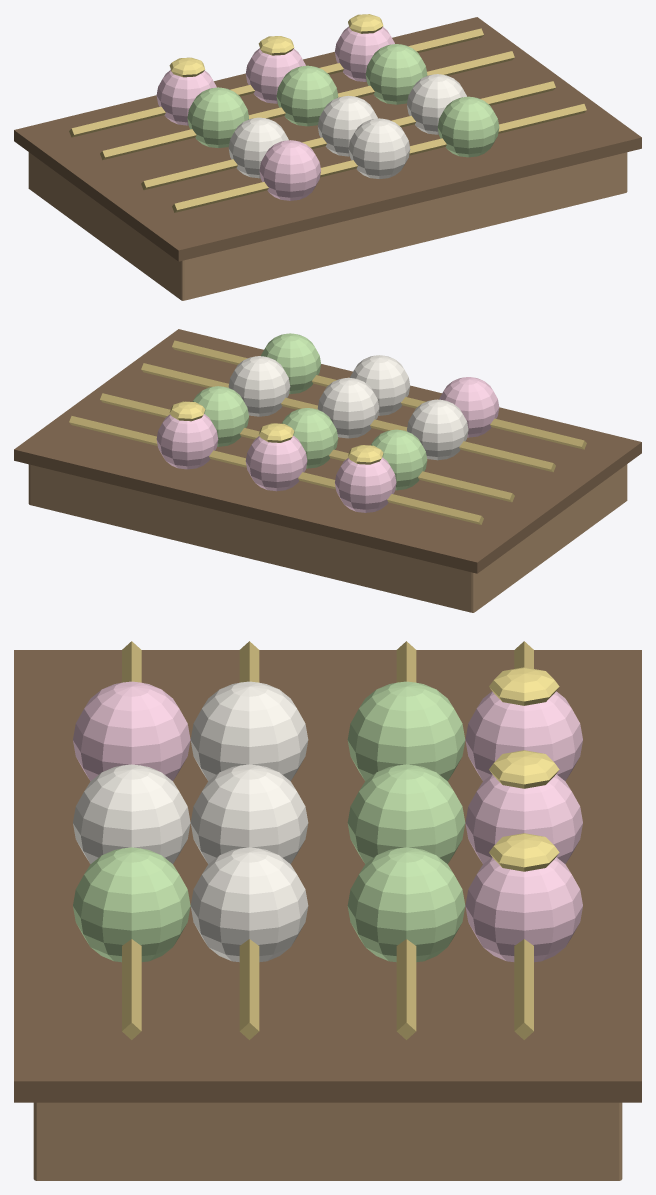
The model's file is dango_skewers.glb.
3 views of the same model, one above another, from view 1: azimuth 30°, elevation 25°; view 2: azimuth 150°, elevation 25°; view 3: azimuth 270°, elevation 25° (orthographic). The views are drawn at different scales.
Visible parts, largest first — view 1: dango_skewers; view 2: dango_skewers; view 3: dango_skewers.
Boxes of the visible parts, x1=… form: dango_skewers: x1=14, y1=14, x2=641, y2=300; dango_skewers: x1=14, y1=329, x2=641, y2=612; dango_skewers: x1=14, y1=641, x2=641, y2=1180.
Bounding box in the file's own units: 0.52 × 0.1222 × 0.32.
